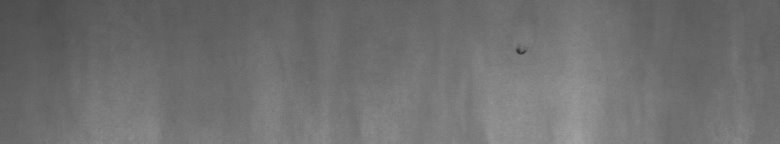fi: (514, 40, 527, 60)
